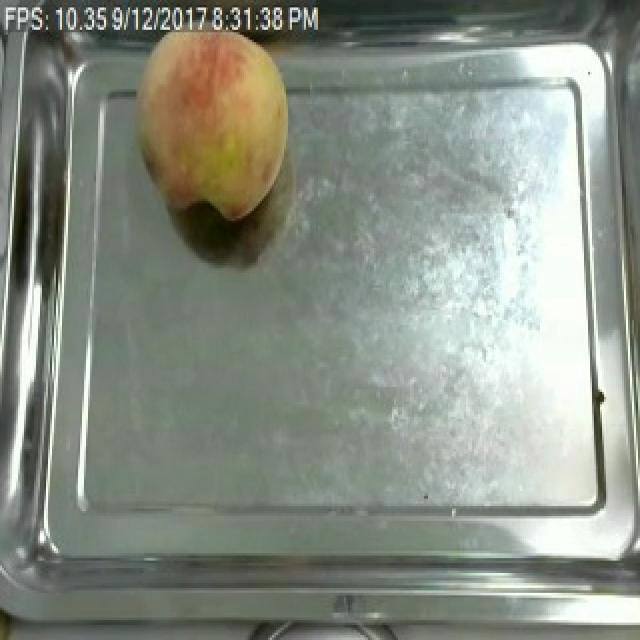Fruit: (124, 10, 298, 226)
